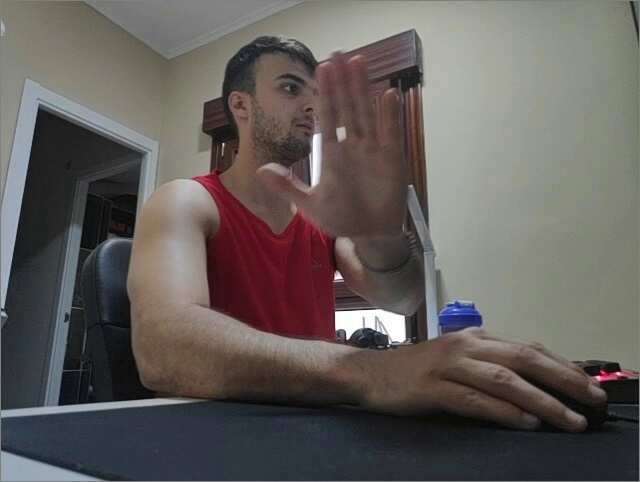Palm: (257, 49, 423, 241)
